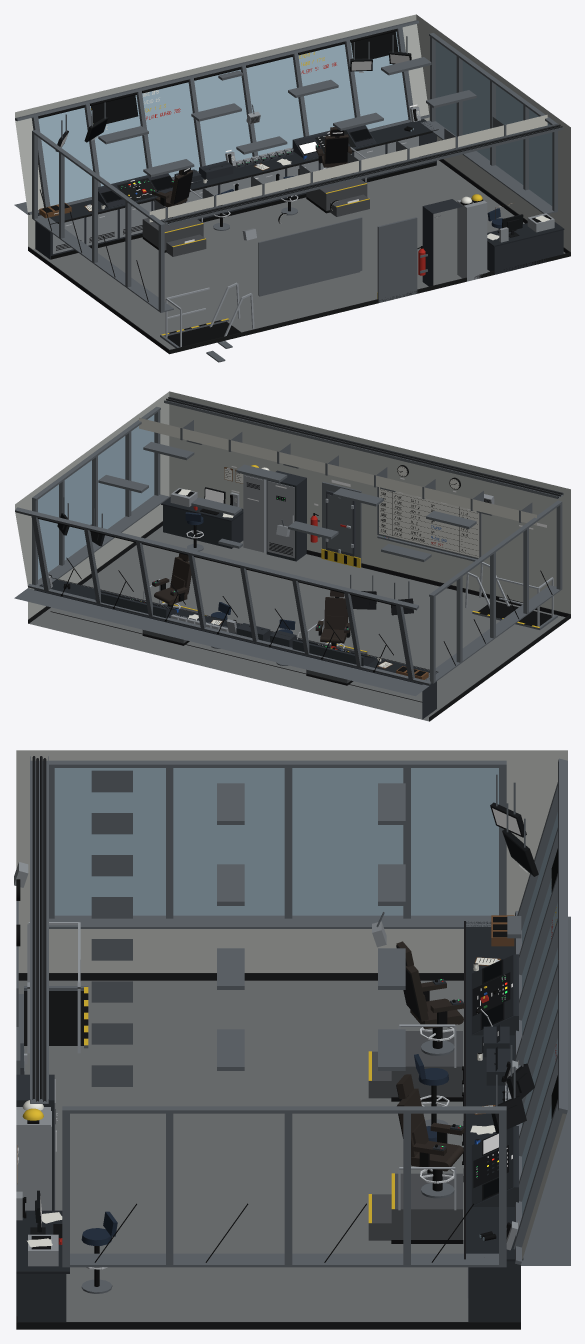
The model's file is cvn_prifly.glb.
3 views of the same model, one above another, from view 1: azimuth 30°, elevation 25°; view 2: azimuth 150°, elevation 25°; view 3: azimuth 270°, elevation 25° (orthographic). The views are drawn at different scales.
Parts seen in each view (by area): view 1: static, static_tex, exit_ladder, throne_1, throne_0; view 2: static_tex, static, door_cic, exit_ladder, throne_0, throne_1, stool_4; view 3: static_tex, static, throne_1, throne_0, exit_ladder, stool_4, stool_2.
Part boxes in pixels (x1=…): static: x1=14, y1=20, x2=570, y2=354; static_tex: x1=15, y1=14, x2=570, y2=349; exit_ladder: x1=165, y1=282, x2=254, y2=362; throne_1: x1=315, y1=127, x2=351, y2=179; throne_0: x1=152, y1=167, x2=192, y2=222; static_tex: x1=15, y1=391, x2=570, y2=721; static: x1=14, y1=396, x2=570, y2=721; door_cic: x1=325, y1=490, x2=355, y2=556; exit_ladder: x1=465, y1=562, x2=553, y2=626; throne_0: x1=315, y1=590, x2=350, y2=649; throne_1: x1=152, y1=553, x2=191, y2=608; stool_4: x1=185, y1=512, x2=203, y2=551; static_tex: x1=14, y1=750, x2=567, y2=1321; static: x1=16, y1=756, x2=570, y2=1329; throne_1: x1=396, y1=1074, x2=464, y2=1198; throne_0: x1=396, y1=941, x2=464, y2=1055; exit_ladder: x1=24, y1=922, x2=83, y2=1053; stool_4: x1=81, y1=1211, x2=117, y2=1293; stool_2: x1=414, y1=1054, x2=449, y2=1126.
Size of the model in its own units: 10.88 by 3.94 by 7.27.
